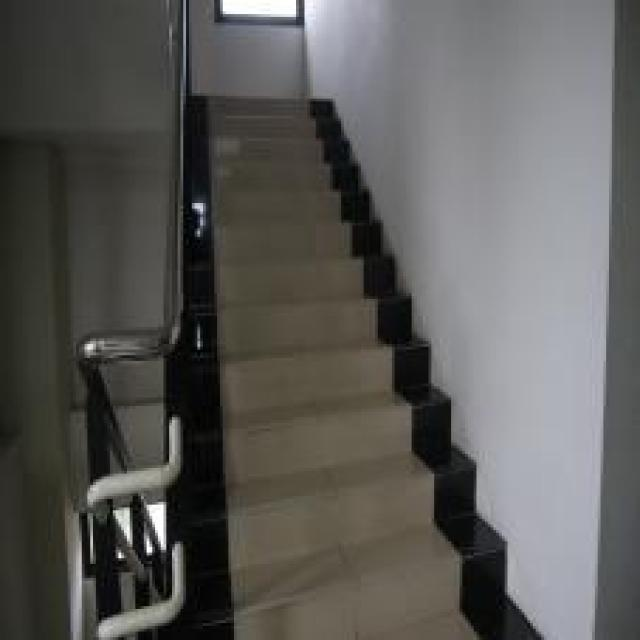upstair: (215, 80, 438, 638)
